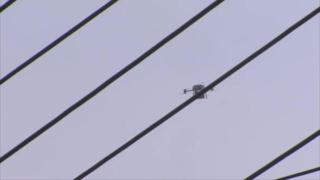UAV: (182, 82, 218, 99)
